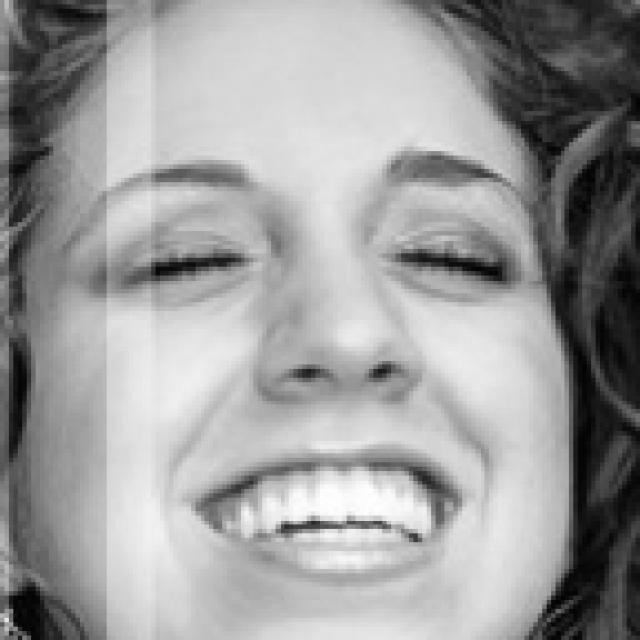real: (22, 7, 574, 640), (102, 202, 520, 318)
